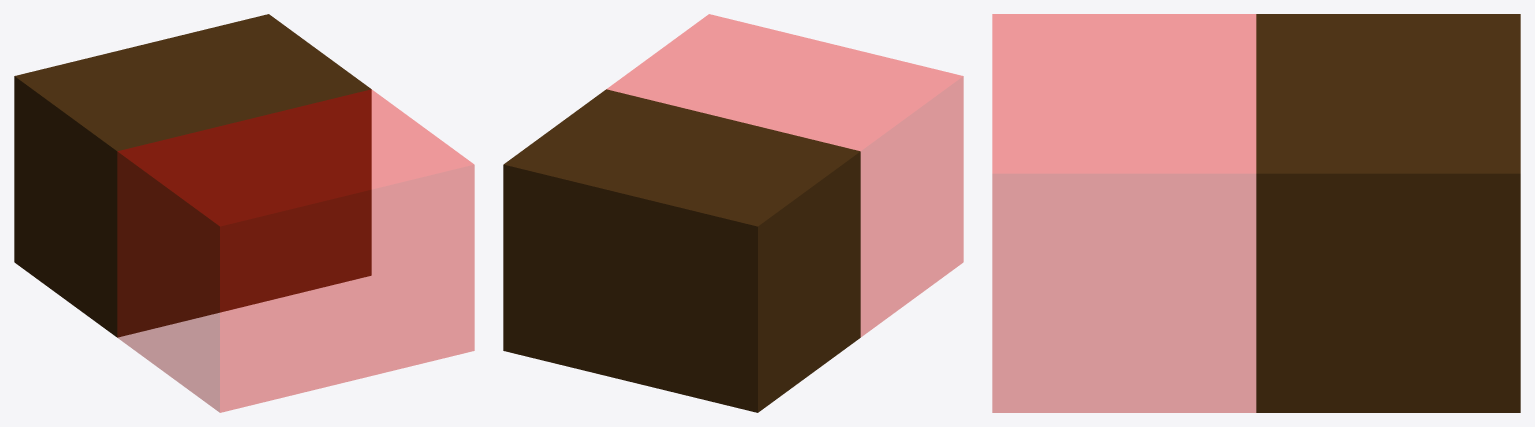
The model's file is furniture.glb.
The picture shows the model from 3 angles, left to right: view 1: azimuth 30°, elevation 25°; view 2: azimuth 150°, elevation 25°; view 3: azimuth 270°, elevation 25°; orthographic projection. The views are drawn at different scales.
Parts seen in each view (by area): view 1: Box (×2); view 2: Box (×2); view 3: Box (×2).
Boxes of the visible parts, box(x1,y1,x2,y2) form: Box (×2): box(14, 14, 474, 412); Box (×2): box(503, 14, 963, 412); Box (×2): box(992, 14, 1520, 412).
Size of the model in its own units: 1 by 0.7 by 1.4.
